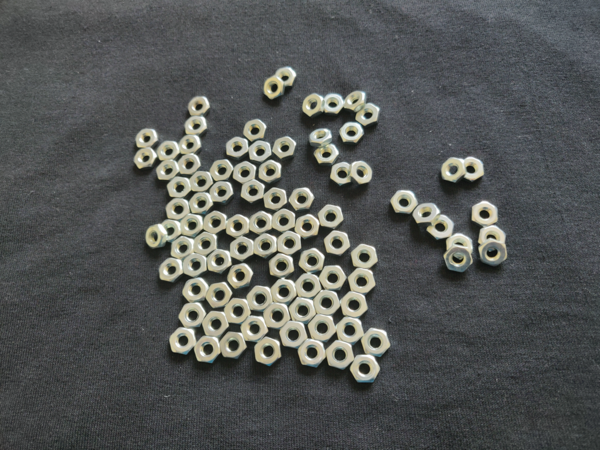nut: (349, 354, 381, 386), (362, 328, 394, 356), (263, 302, 292, 331), (346, 268, 377, 295), (338, 292, 369, 319), (480, 239, 508, 268), (389, 190, 418, 218), (326, 341, 353, 371), (307, 315, 338, 341), (426, 215, 458, 240), (445, 244, 472, 273), (473, 201, 502, 228), (224, 298, 251, 326), (319, 265, 350, 289), (298, 343, 325, 370), (447, 233, 475, 259), (327, 159, 353, 187), (299, 248, 327, 274), (207, 282, 233, 310), (352, 245, 381, 270), (336, 319, 366, 343), (242, 316, 268, 343), (220, 332, 246, 359), (164, 197, 190, 224), (313, 291, 341, 316), (257, 338, 281, 367), (170, 328, 196, 354), (183, 278, 209, 304), (323, 231, 350, 256), (229, 262, 254, 289), (289, 299, 316, 324), (195, 336, 220, 363), (210, 156, 235, 182), (269, 254, 295, 279), (294, 273, 320, 298), (281, 322, 306, 348), (230, 237, 255, 263), (414, 203, 441, 227), (462, 157, 486, 184), (322, 90, 346, 117), (290, 187, 314, 214), (254, 231, 278, 258), (477, 226, 506, 248), (300, 91, 322, 120), (443, 156, 464, 186), (319, 206, 345, 230), (272, 207, 296, 233), (183, 254, 207, 280), (350, 162, 373, 189), (312, 143, 339, 166), (344, 89, 369, 113), (177, 153, 202, 177), (296, 214, 320, 239), (249, 210, 273, 235), (271, 280, 295, 305), (179, 302, 203, 327), (171, 235, 195, 260), (273, 134, 296, 160), (233, 160, 256, 186), (355, 102, 379, 126), (226, 135, 250, 159), (203, 212, 227, 236), (248, 139, 271, 164), (135, 148, 160, 171), (264, 187, 287, 212), (279, 230, 302, 255), (248, 286, 271, 311), (209, 249, 232, 274), (180, 213, 203, 238), (240, 181, 266, 203), (190, 169, 212, 195), (261, 75, 284, 99), (258, 160, 281, 184), (186, 94, 211, 116), (202, 314, 227, 336), (160, 258, 182, 283), (210, 180, 231, 206), (168, 175, 191, 198), (230, 264, 253, 287), (340, 123, 364, 145), (242, 119, 266, 141), (196, 232, 218, 256), (227, 215, 248, 240), (156, 159, 179, 181), (309, 124, 331, 146), (274, 67, 296, 89), (159, 138, 180, 161), (308, 127, 333, 146), (184, 117, 209, 136), (146, 225, 165, 250), (180, 134, 202, 155), (136, 128, 157, 149), (161, 221, 181, 243)
